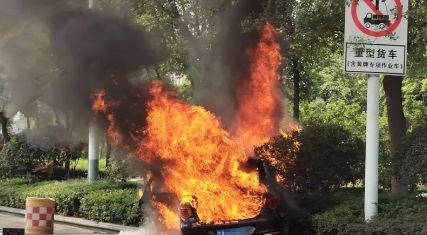fire: (94, 21, 295, 225)
